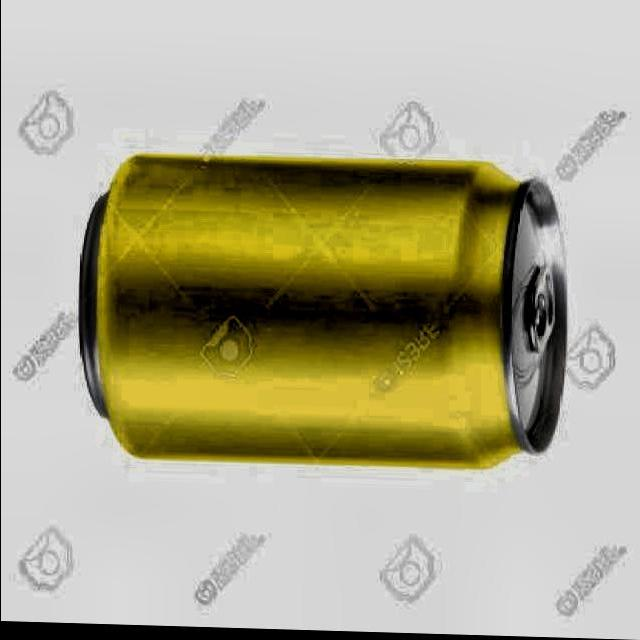Aluminum Can: (76, 142, 573, 480)
